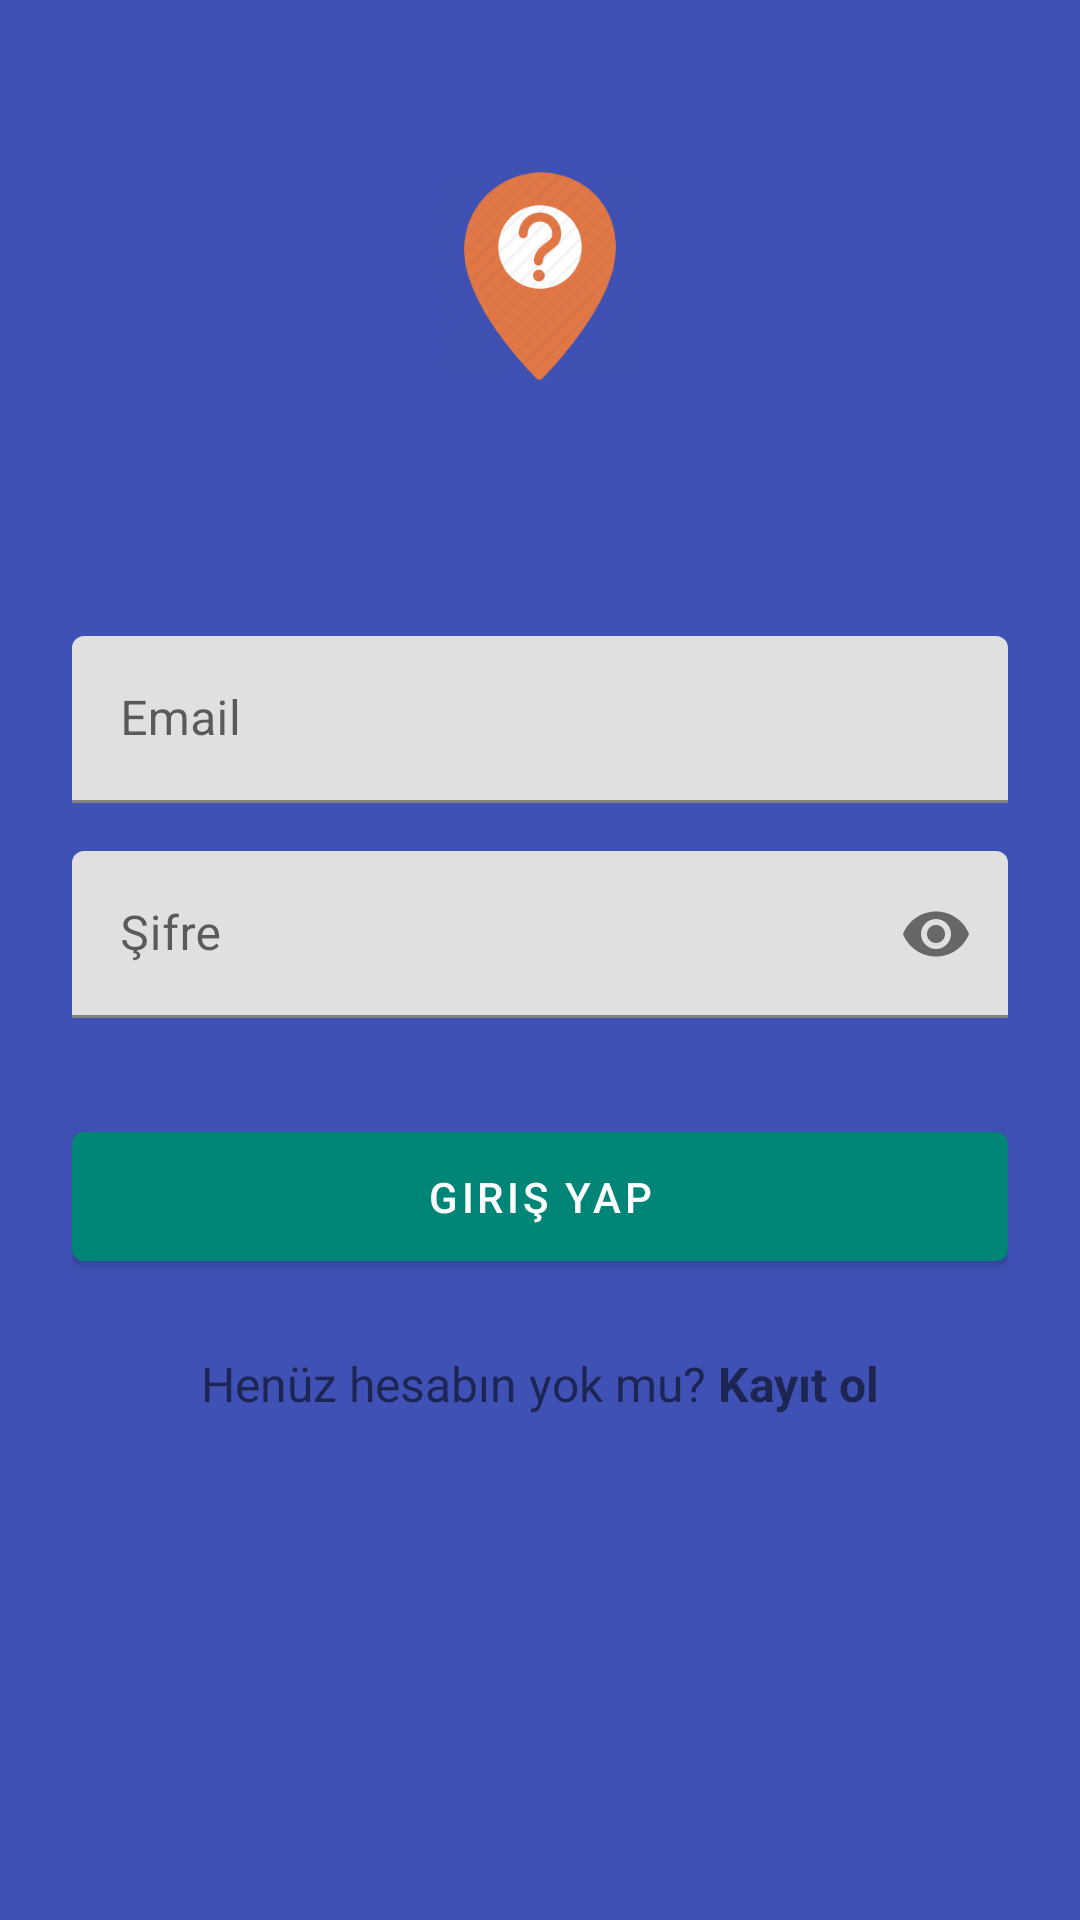

Screen size 1080px x 1920px. Icon name, then its box in pixels as (x1,y1,x2,y2):
where: (464,172,616,380)
